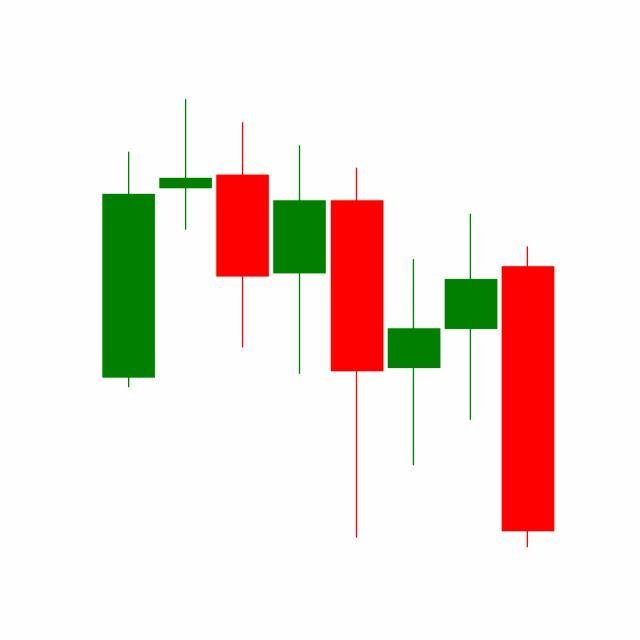Hikkake Pattern: (214, 118, 501, 543)
